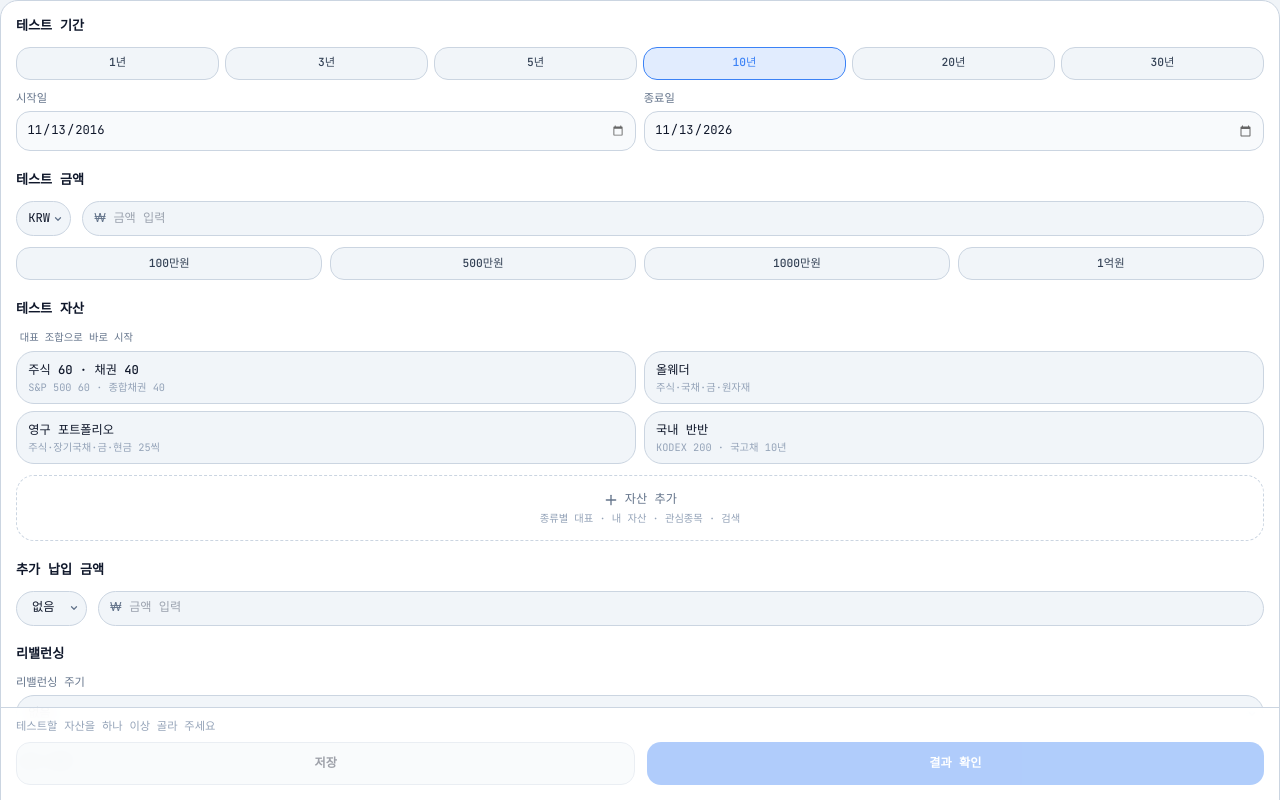
Scenario: 단추가 보이고, 누르면 비중 그대로 들어온다 › 내 자산 칸에 '비중 그대로 담기' 가 있다
This screenshot has width=1280, height=800.
Click the button labelled "자산 추가 종류별 대표 · 내 자산 · 관심종목 · 검색": (640,508) [16,475,1264,541]
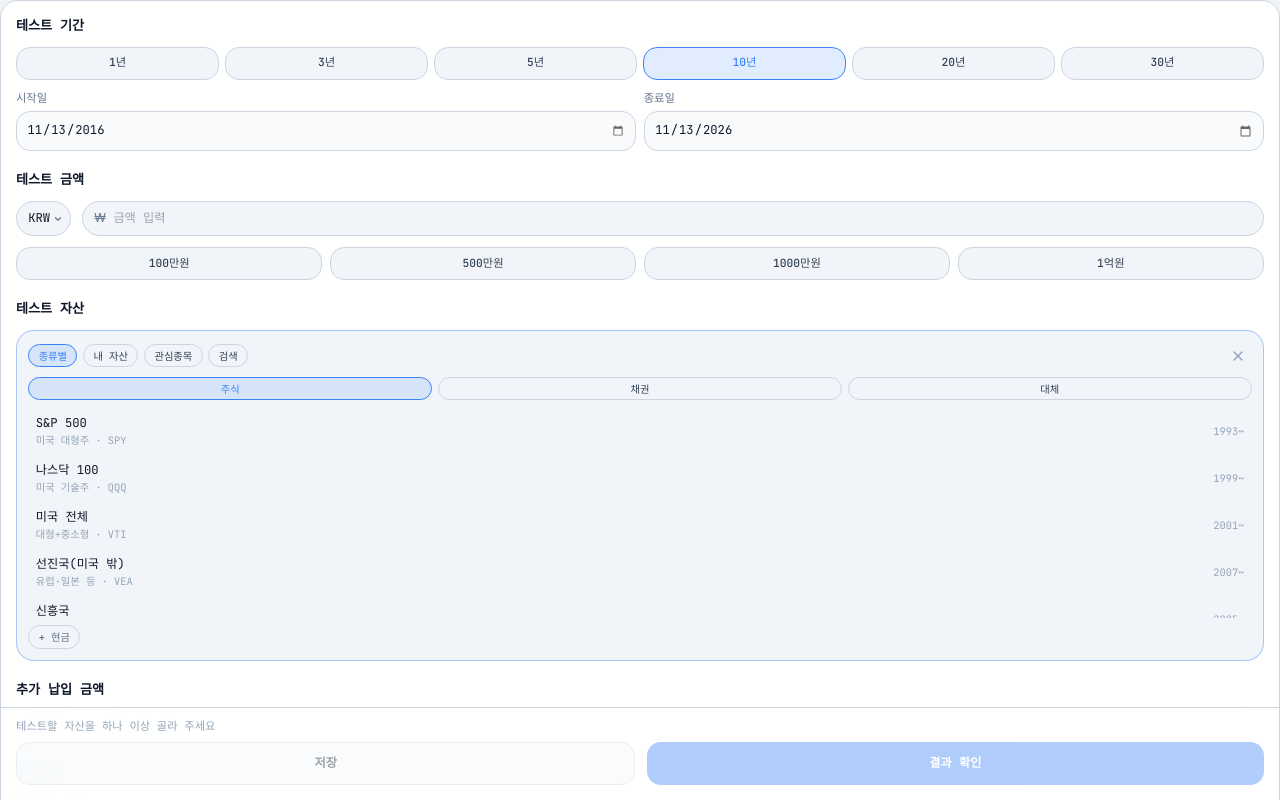
Click the button with aria-label "내 자산에서": (111,356) [83,344,138,367]
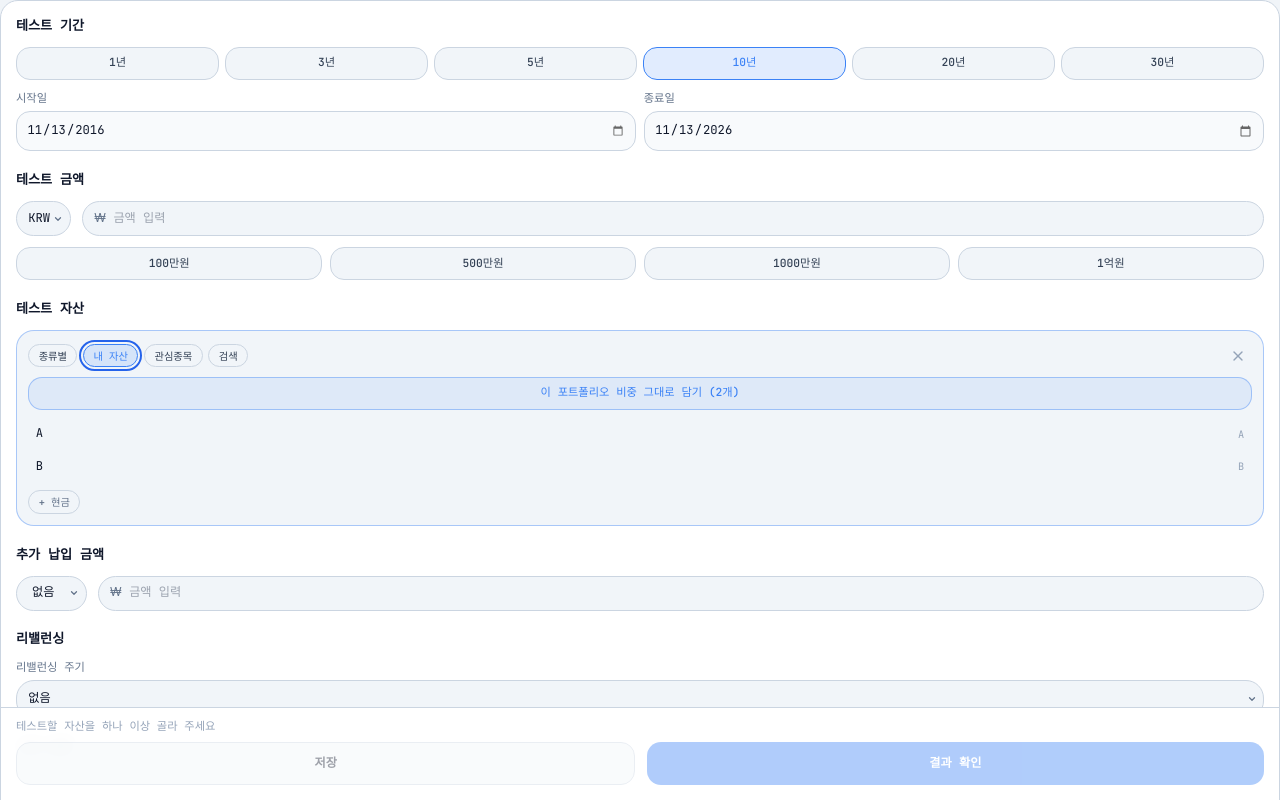
Result: the button with aria-label "이 포트폴리오를 비중 그대로 담기" is shown at [28,377,1252,410]
